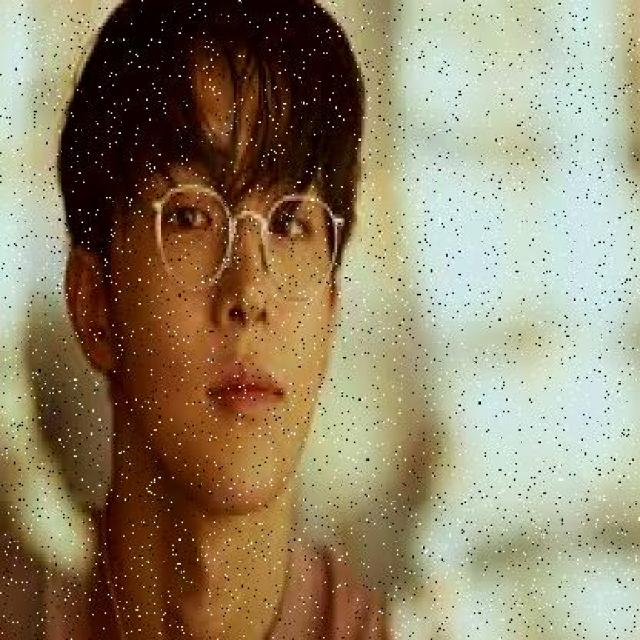glasses: (140, 173, 352, 305)
